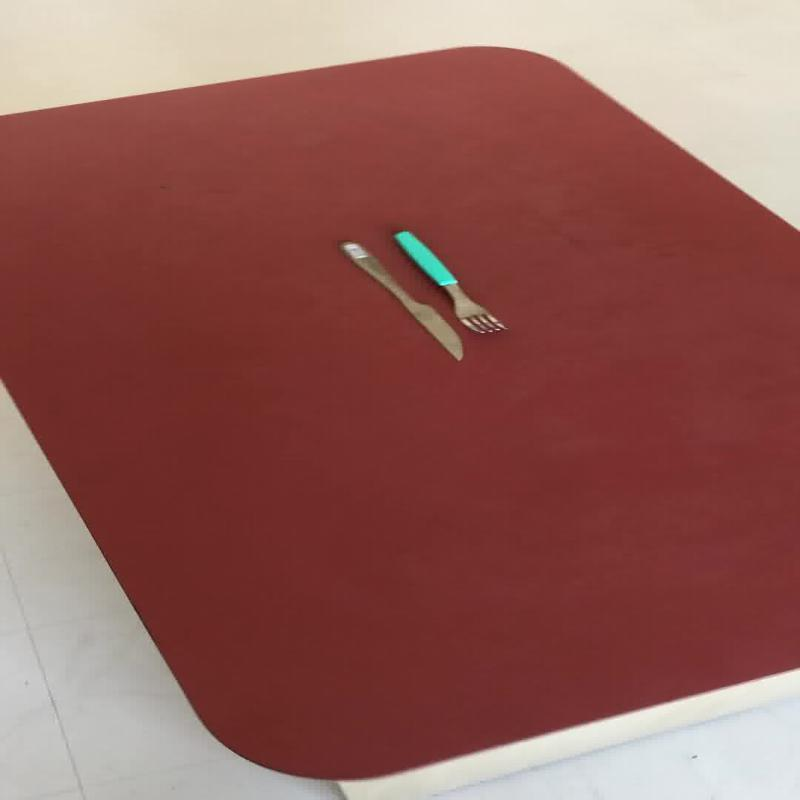fork: (390, 228, 508, 334)
knife: (337, 240, 463, 362)
